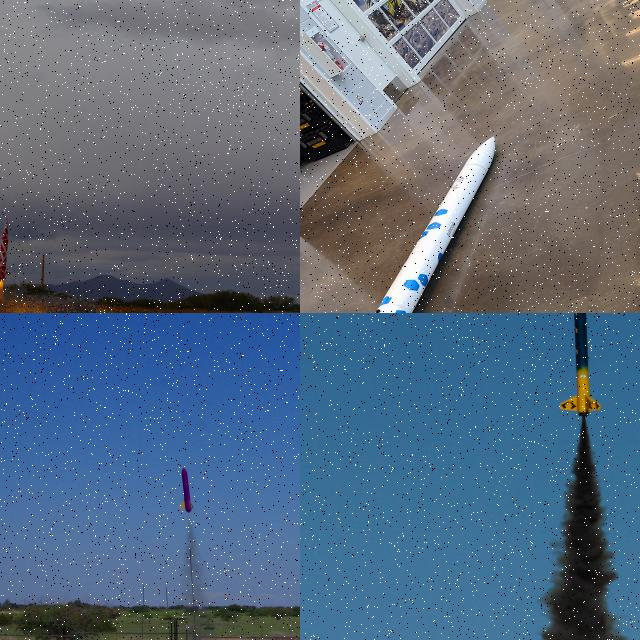Rocket: (374, 135, 496, 313), (559, 313, 603, 417), (178, 466, 195, 514), (0, 218, 13, 280)
